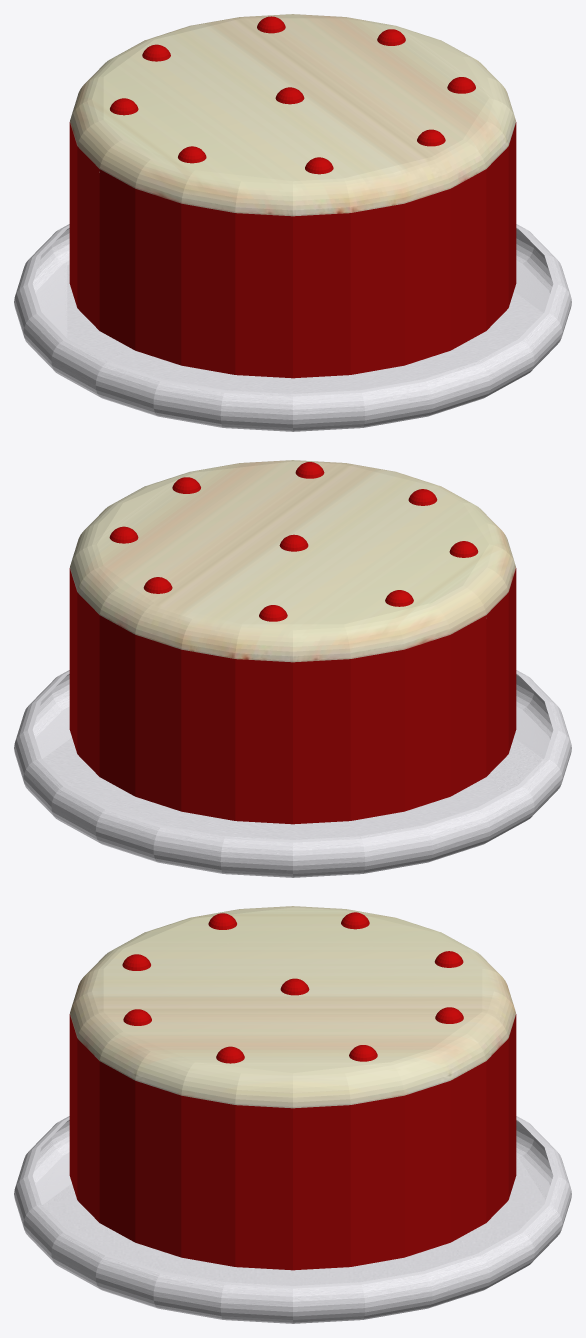
File: torta-4.glb
3 views of the same model, one above another, from view 1: azimuth 30°, elevation 25°; view 2: azimuth 150°, elevation 25°; view 3: azimuth 270°, elevation 25° (orthographic).
Parts seen in each view (by area): view 1: SketchUp.001, SketchUp, SketchUp.003, SketchUp.004; view 2: SketchUp.001, SketchUp, SketchUp.003, SketchUp.004; view 3: SketchUp.001, SketchUp, SketchUp.003, SketchUp.004.
Boxes of the visible parts, x1,y1,x2,y2 form: SketchUp.001: (69,122,516,378); SketchUp: (70,14,515,216); SketchUp.003: (14,224,571,431); SketchUp.004: (110,16,475,174); SketchUp.001: (69,568,516,824); SketchUp: (70,460,515,662); SketchUp.003: (14,670,571,877); SketchUp.004: (109,462,478,621); SketchUp.001: (69,1014,516,1270); SketchUp: (70,906,515,1108); SketchUp.003: (14,1116,571,1323); SketchUp.004: (122,912,463,1063).
Size of the model in its own units: 0.2462 by 0.1126 by 0.2462.
5 materials, 2 textured.
